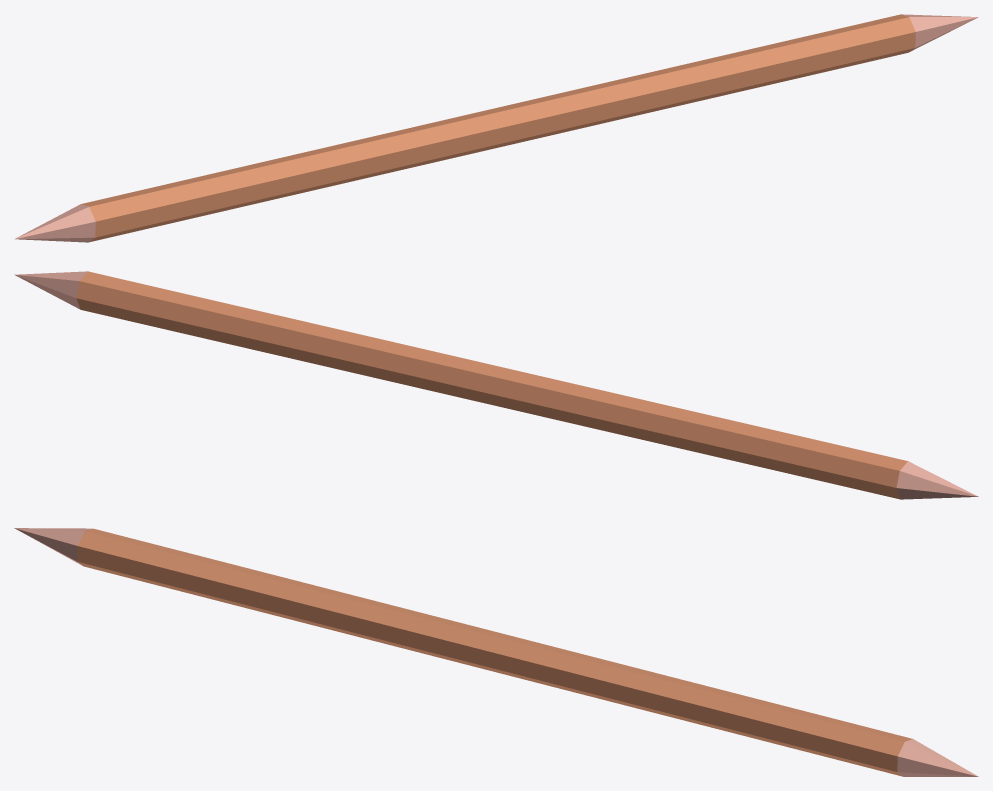
File: LogC.fbx
3 views of the same model, one above another, from view 1: azimuth 30°, elevation 25°; view 2: azimuth 150°, elevation 25°; view 3: azimuth 330°, elevation 25° (orthographic).
Visible parts, largest first — view 1: LogC; view 2: LogC; view 3: LogC.
Boxes of the visible parts, x1=… form: LogC: x1=14, y1=14, x2=978, y2=242; LogC: x1=14, y1=271, x2=978, y2=499; LogC: x1=14, y1=528, x2=978, y2=776.
Bounding box in the file's own units: 1496 × 67.89 × 51.26.
